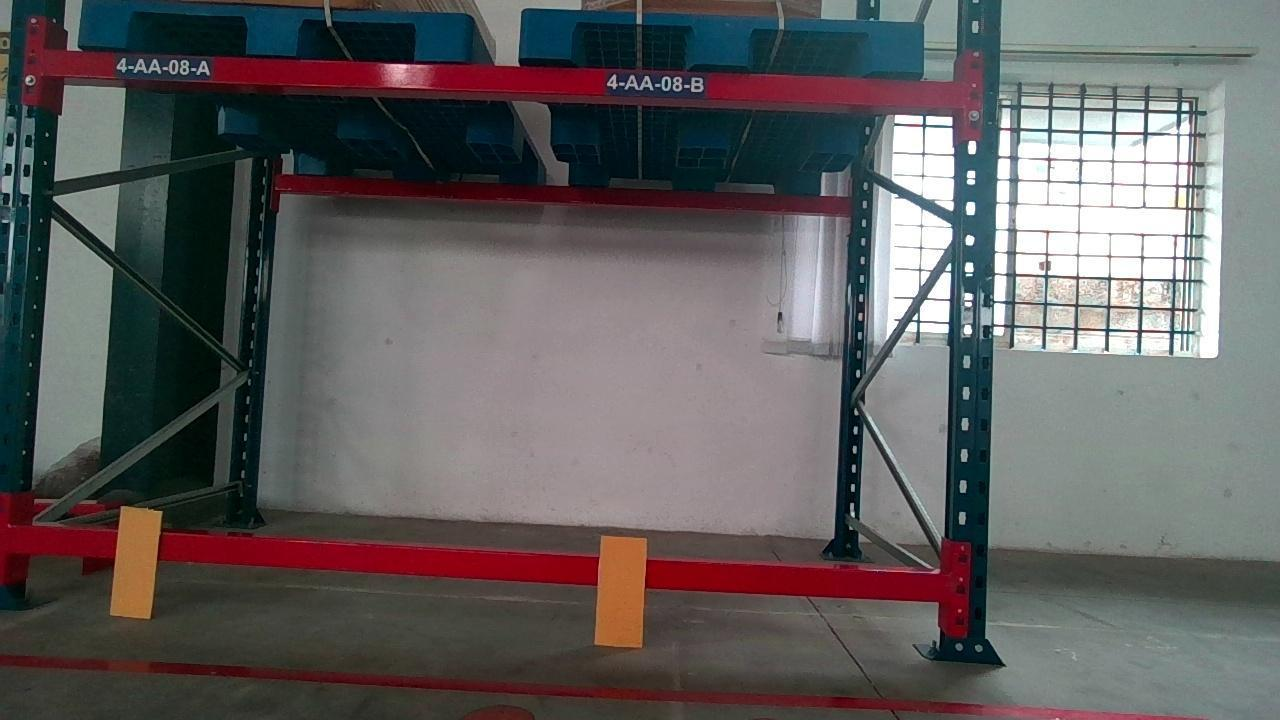h_rack: (0, 655, 1184, 720), (2, 528, 948, 599), (34, 52, 967, 105)
orange_strip: (595, 534, 646, 647), (109, 506, 160, 616)
small_pallet: (514, 7, 942, 71), (79, 3, 467, 56)
